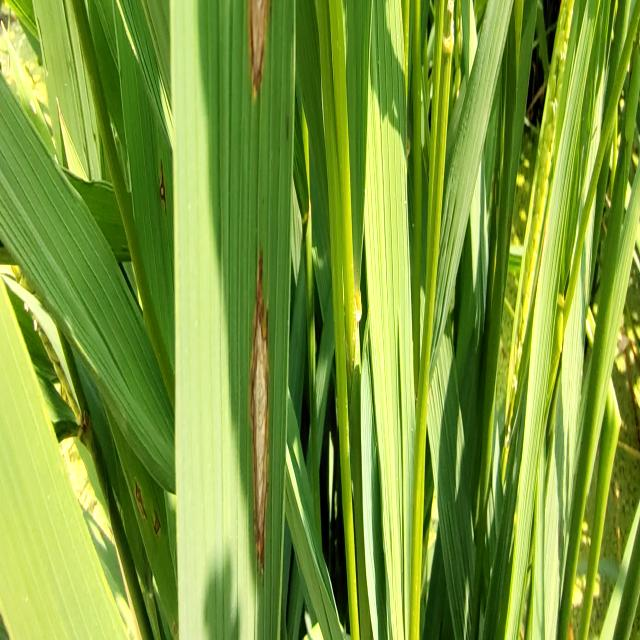LEAF BLAST: (249, 248, 270, 582), (248, 0, 269, 104)
